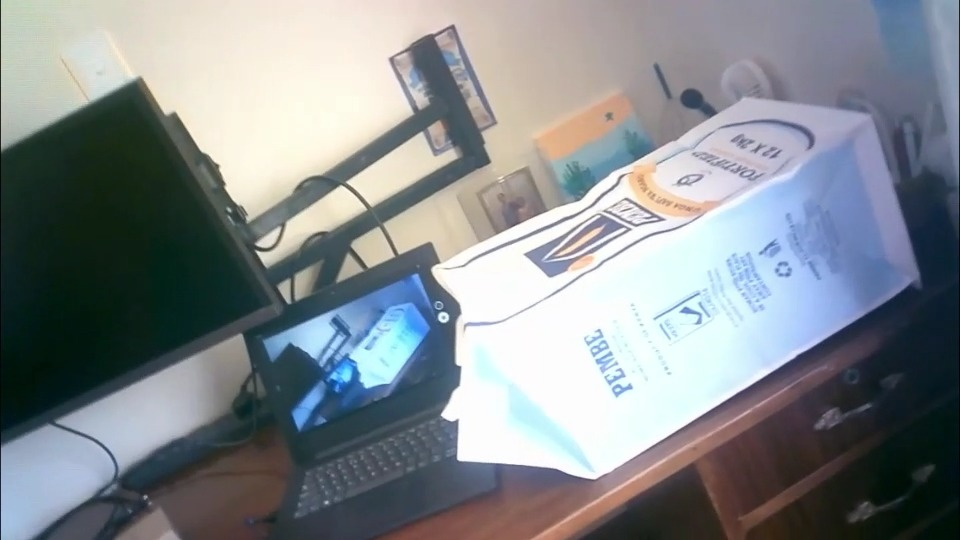wheat_flour_blue_label: (436, 96, 918, 474)
